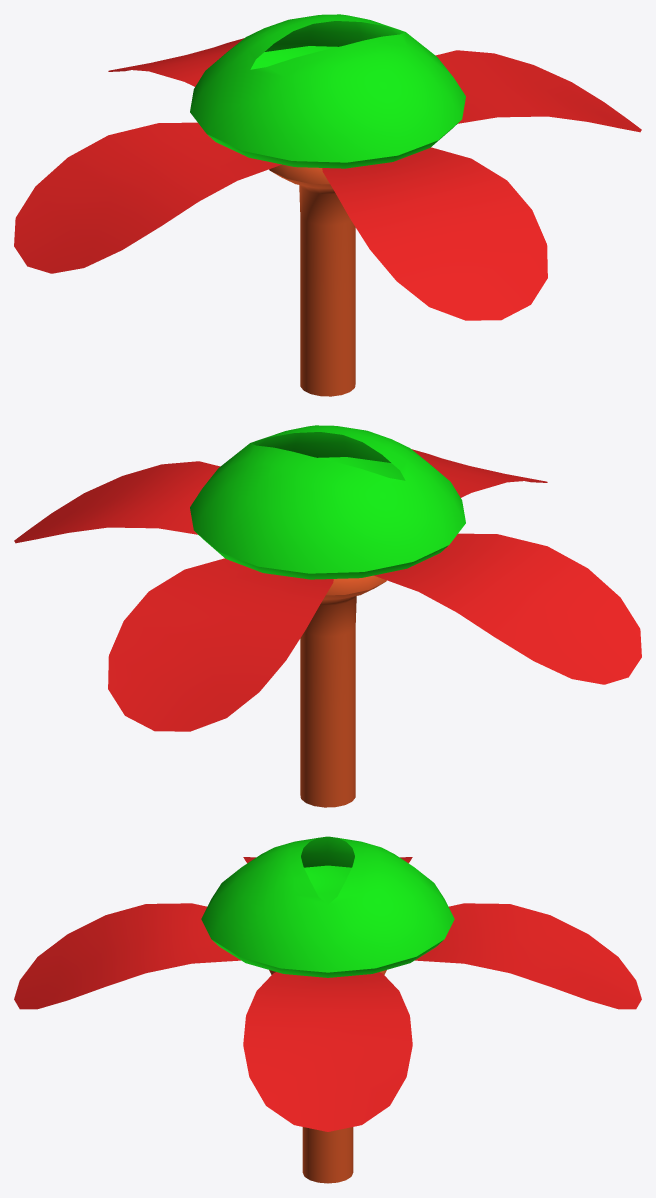
File: flor_esquisita.fbx
3 views of the same model, one above another, from view 1: azimuth 30°, elevation 25°; view 2: azimuth 150°, elevation 25°; view 3: azimuth 270°, elevation 25° (orthographic). The views are drawn at different scales.
Visible parts, largest first — view 1: Cylinder; view 2: Cylinder; view 3: Cylinder.
Part boxes in pixels (<box>): Cylinder: <box>14,14,641,396</box>; Cylinder: <box>14,425,641,807</box>; Cylinder: <box>14,836,641,1183</box>.
Bounding box in the file's own units: 571 × 317 × 571.
